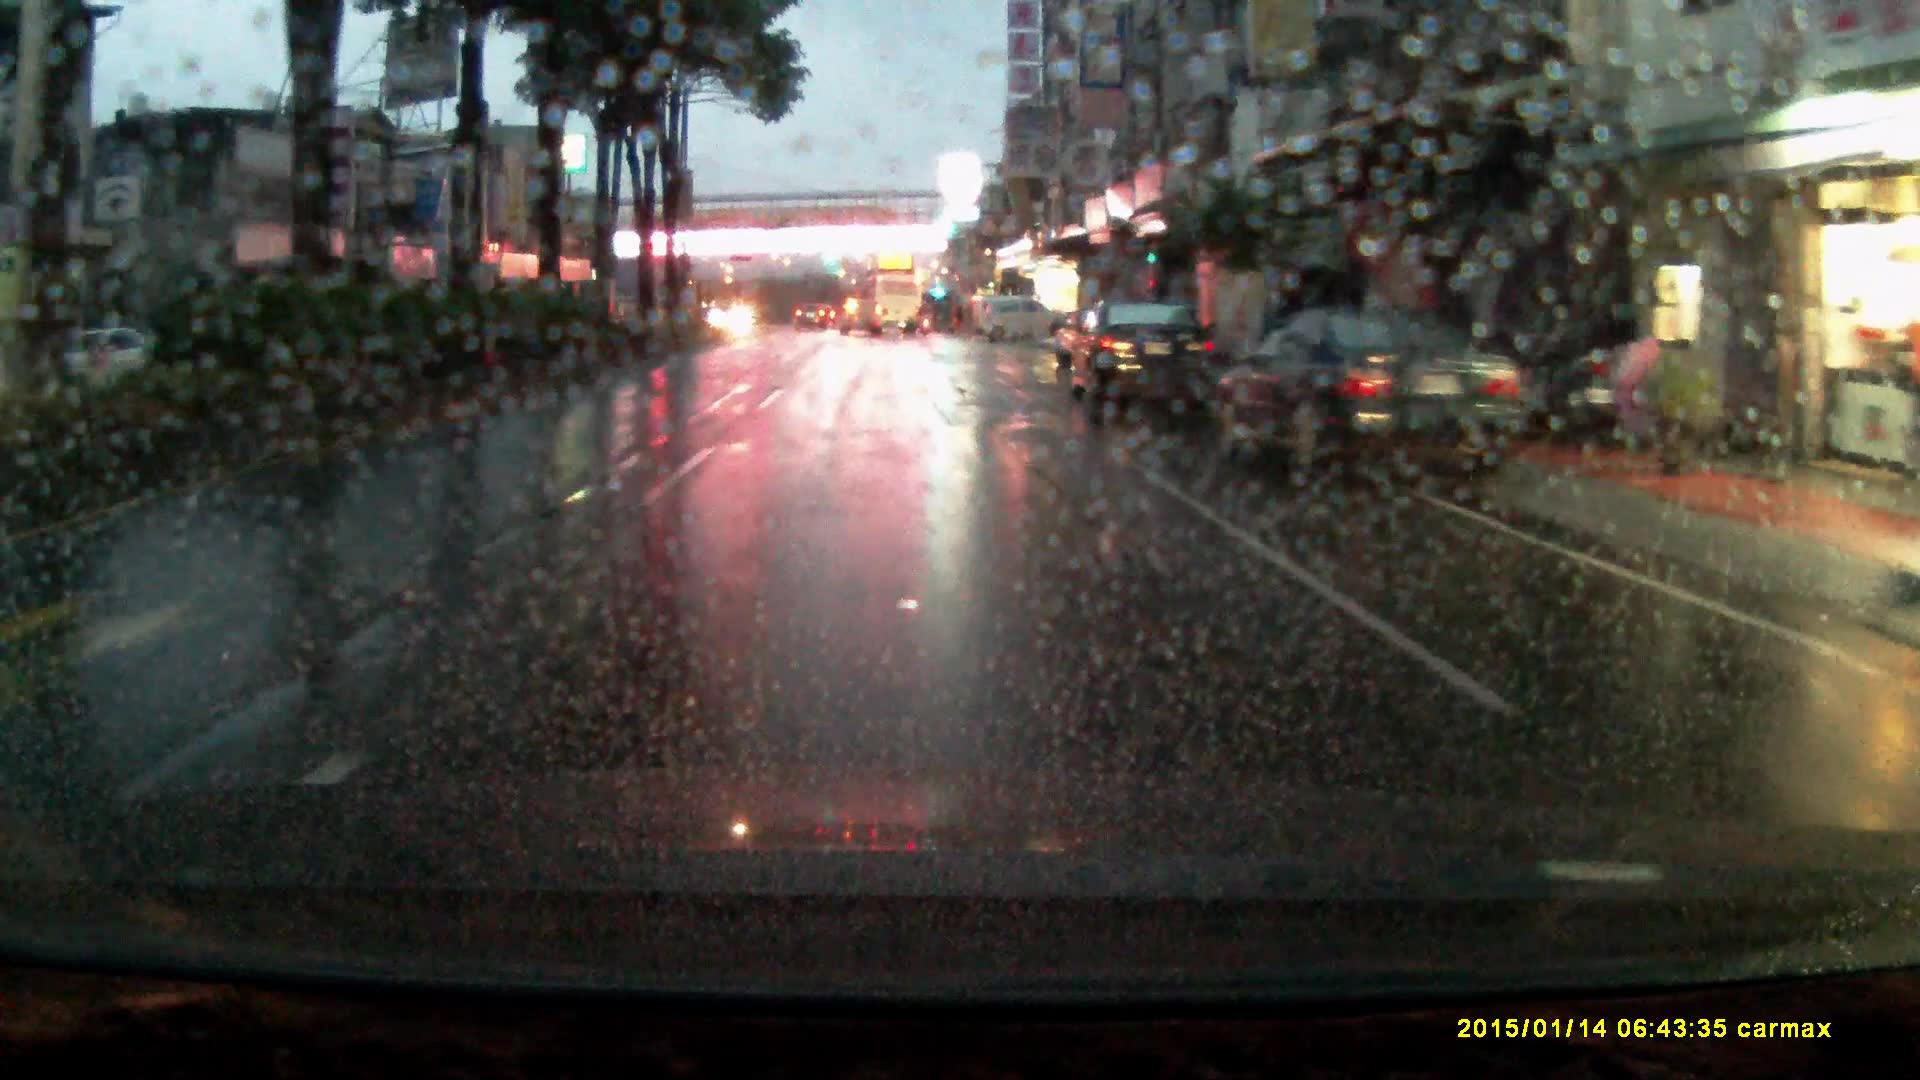vehicle: (1203, 305, 1545, 487), (1065, 291, 1224, 415), (25, 326, 157, 386), (981, 293, 1065, 345), (862, 270, 924, 334), (839, 295, 887, 338), (796, 299, 829, 330)
